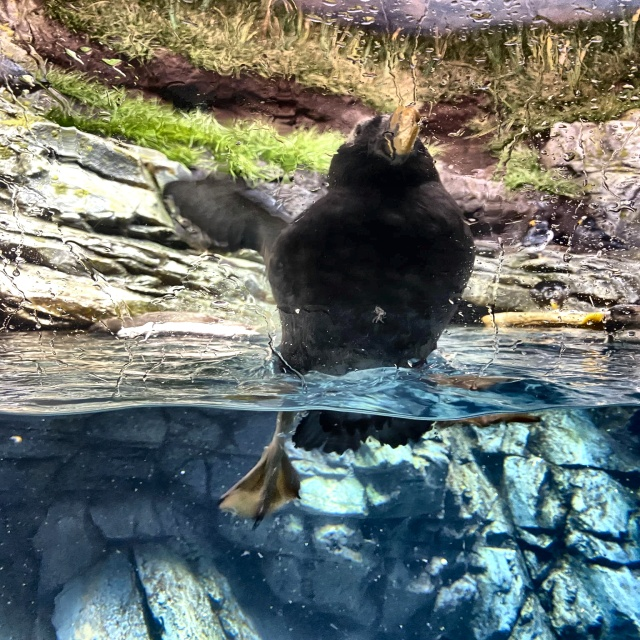puffin: (251, 104, 485, 376)
